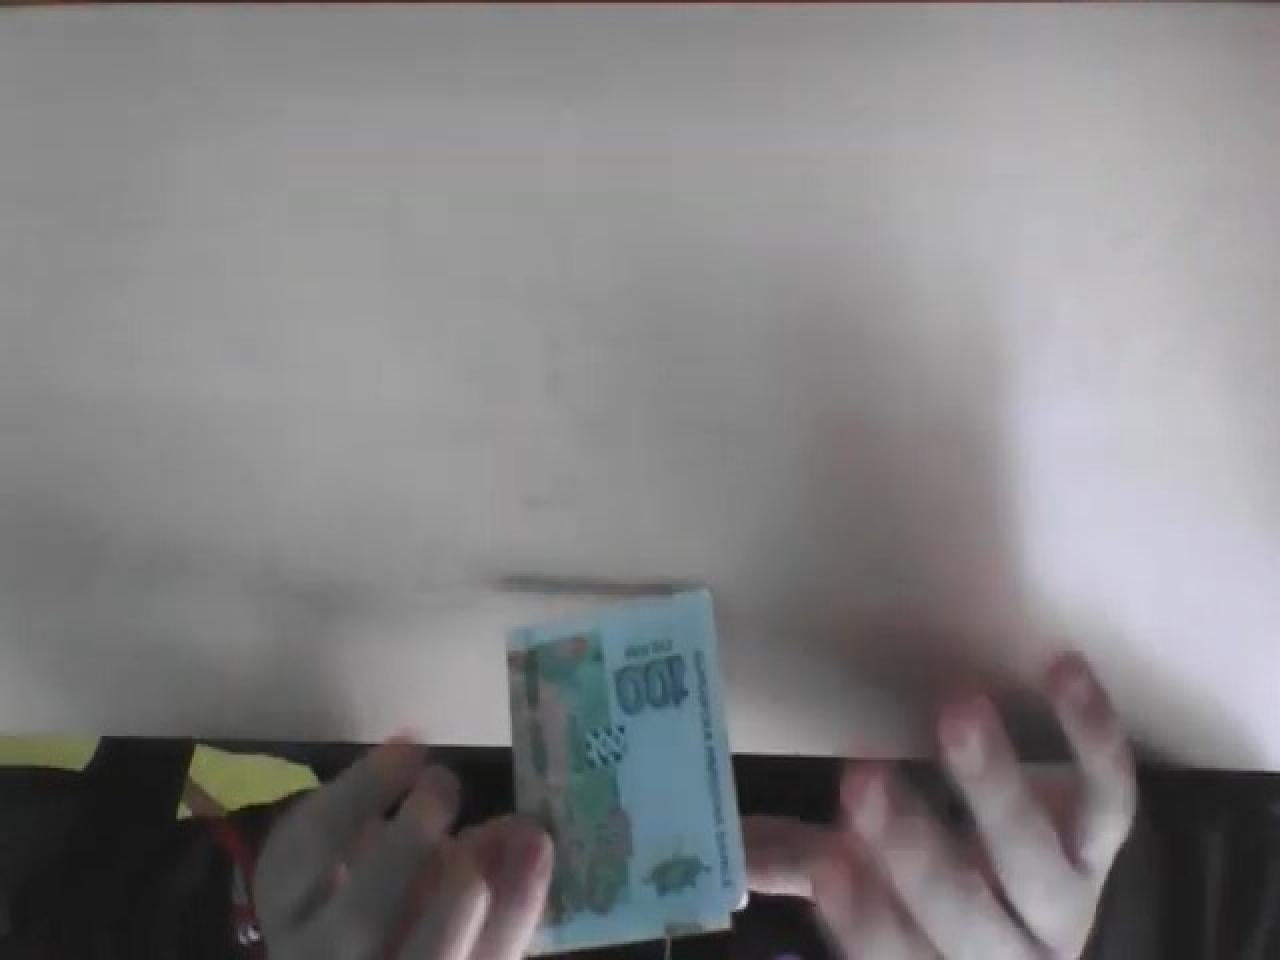100leva: (502, 584, 750, 955)
